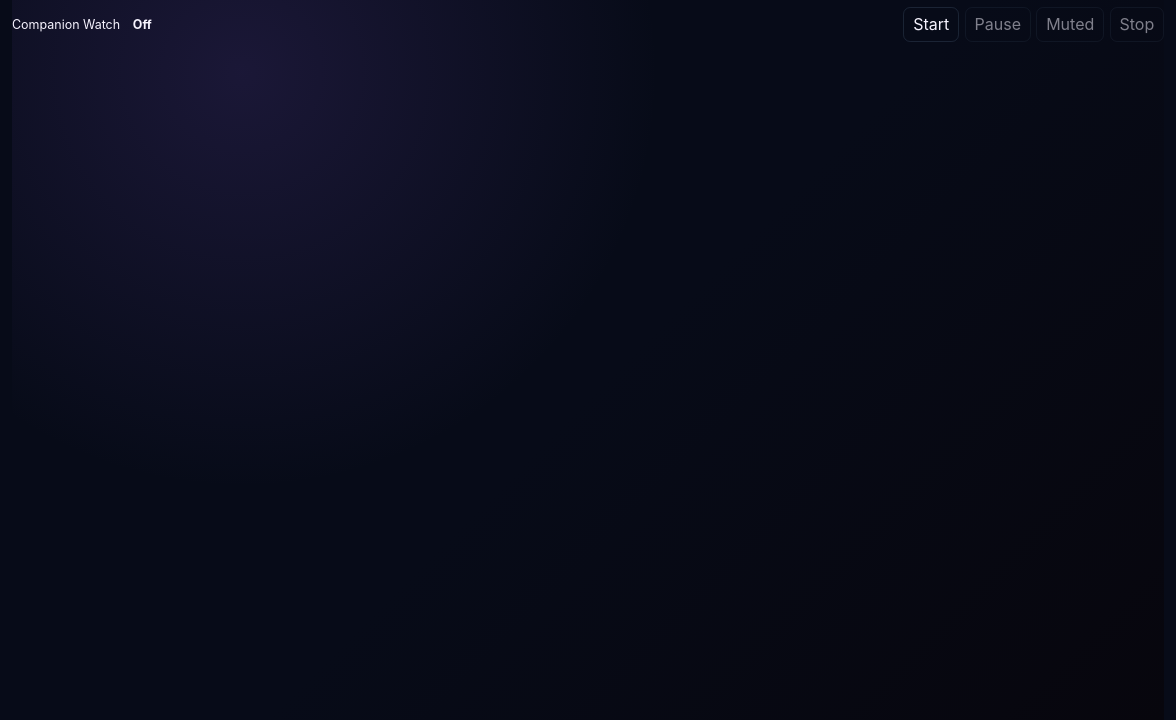
desktop companion panels › drives Companion Watch through the control store and shows its status
The width and height of the screenshot is (1176, 720).
Expected: the button "Pause" is disabled, [965, 7, 1031, 42]
Click the button "Start": (931, 25) [904, 7, 959, 42]
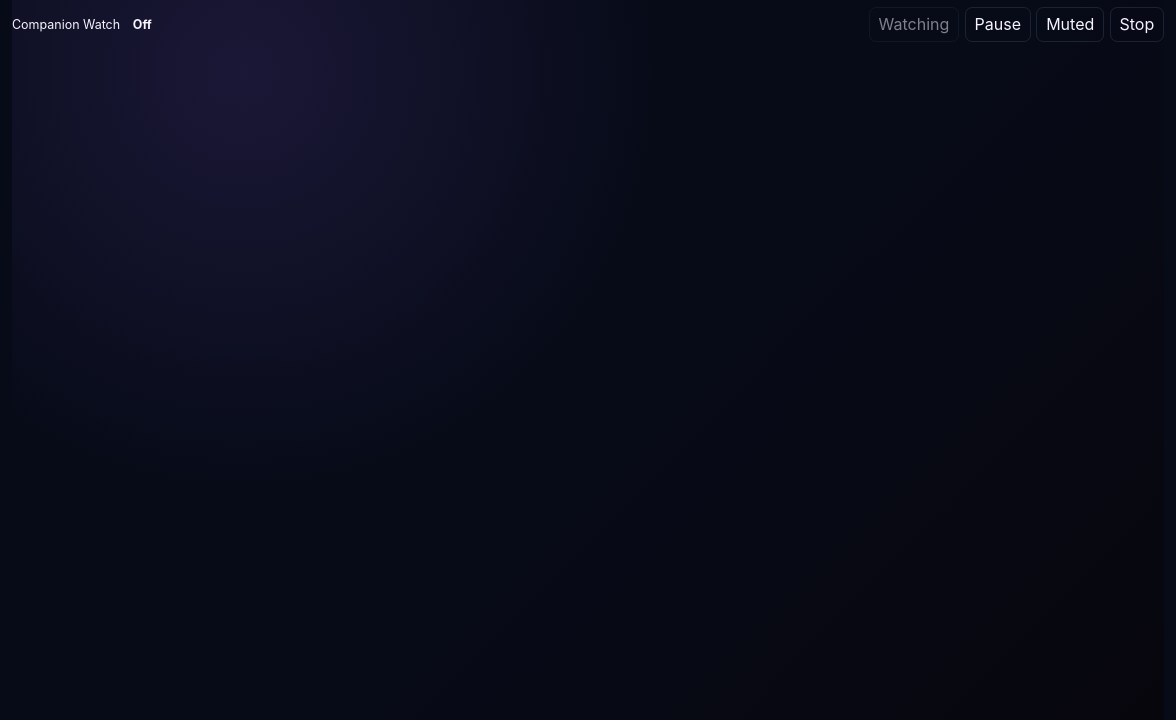
Expected: the button "Watching" is disabled, [869, 7, 959, 42]
Click the button "Muted": (1070, 25) [1036, 7, 1104, 42]
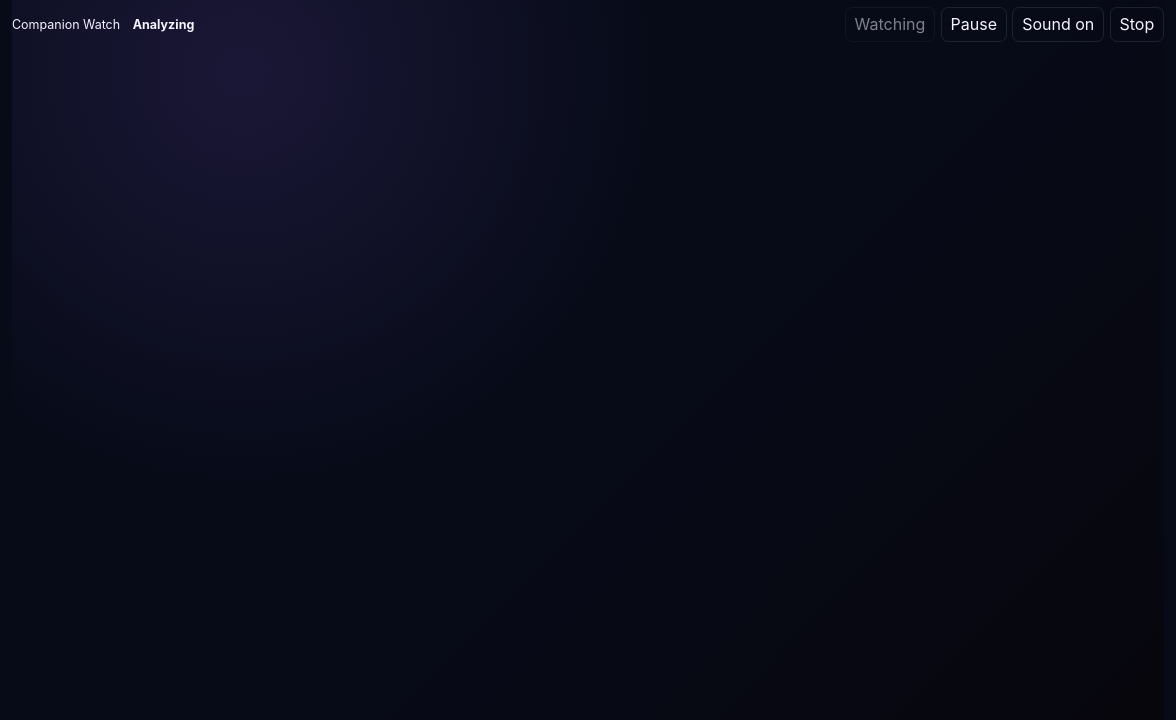
Expected: the text "Analyzing" is shown, [133, 17, 194, 32]
